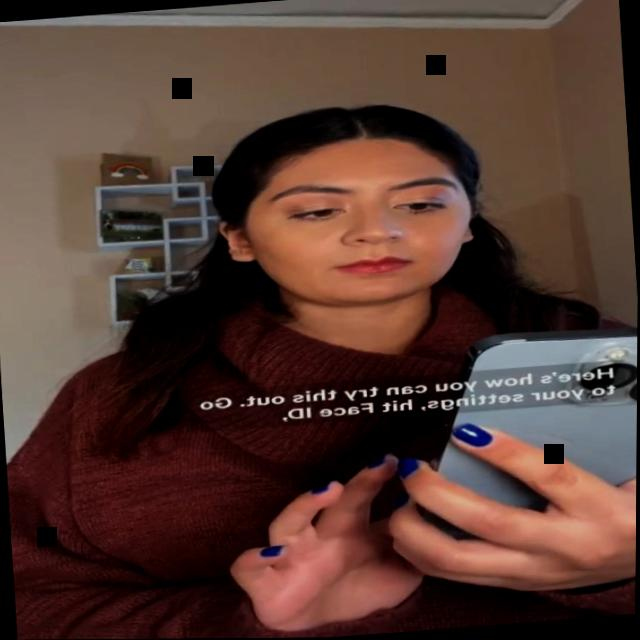NO-Mask: (210, 123, 492, 330)
